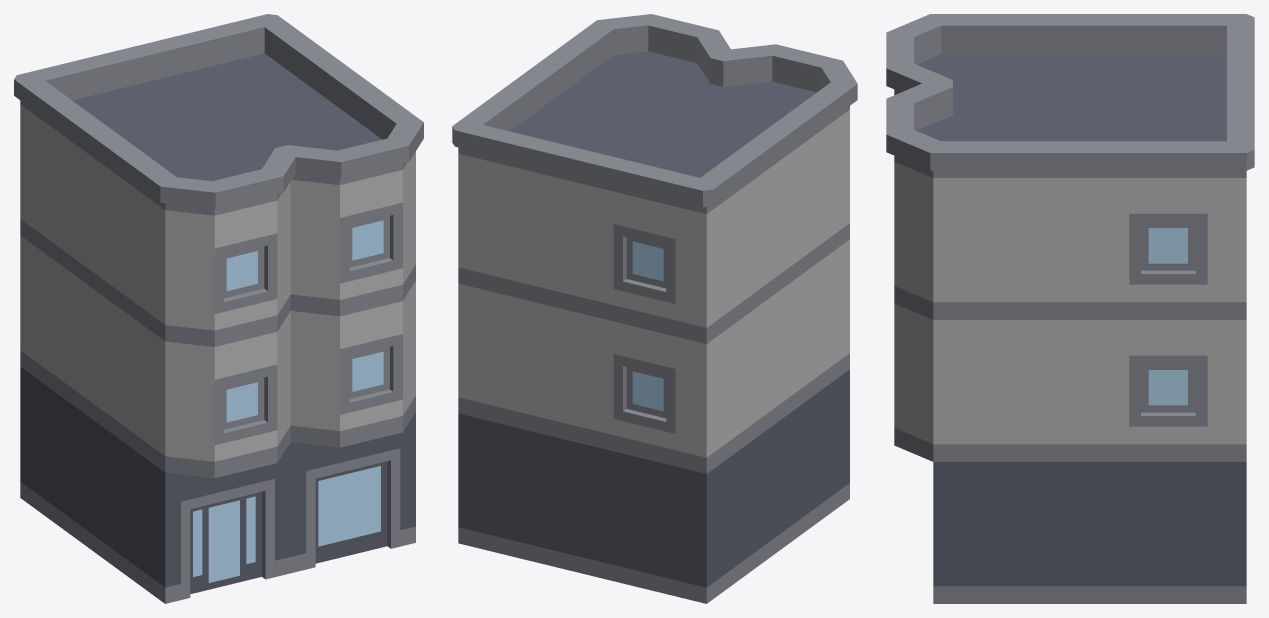
The model's file is variant_25.fbx.
The picture shows the model from 3 angles, left to right: view 1: azimuth 30°, elevation 25°; view 2: azimuth 150°, elevation 25°; view 3: azimuth 270°, elevation 25°; orthographic projection. The views are drawn at different scales.
Visible parts, largest first — view 1: small_buildingA; view 2: small_buildingA; view 3: small_buildingA.
Boxes of the visible parts, x1,y1,x2,y2 form: small_buildingA: (14,14,423,603); small_buildingA: (452,14,857,603); small_buildingA: (886,14,1254,603).
Bounding box in the file's own units: 84 × 128 × 94.
